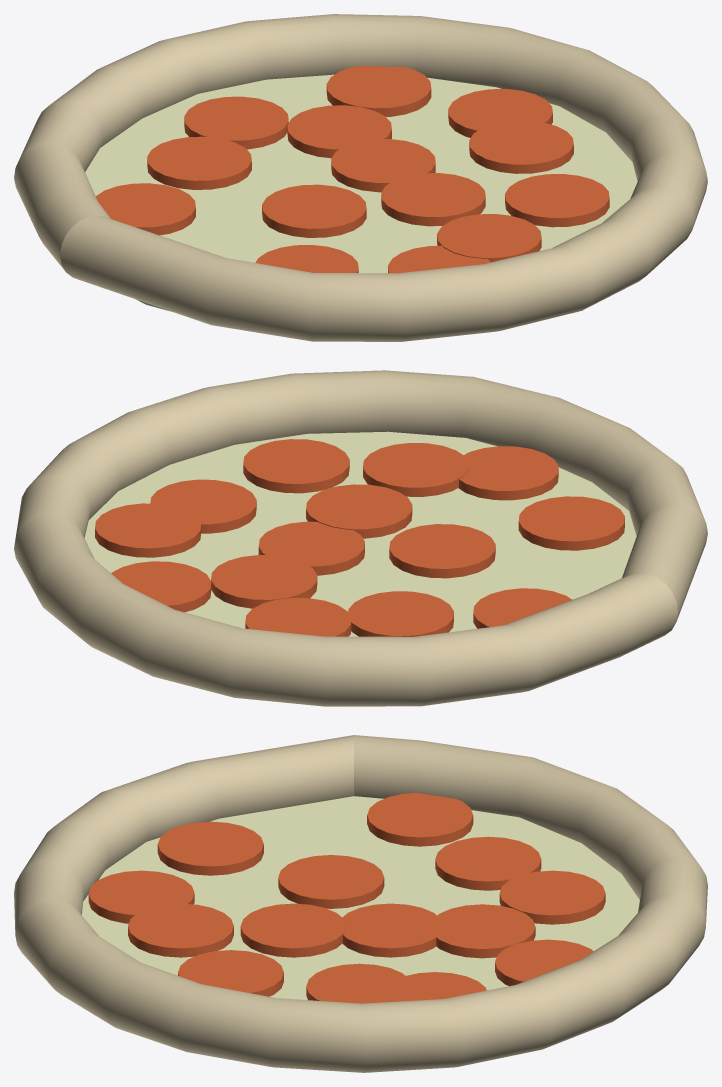
Rendered from pizza.fbx.
The picture shows the model from 3 angles, top to bottom: view 1: azimuth 30°, elevation 25°; view 2: azimuth 150°, elevation 25°; view 3: azimuth 270°, elevation 25°; orthographic projection.
Visible parts, largest first — view 1: polySurface1; view 2: polySurface1; view 3: polySurface1.
Boxes of the visible parts, x1,y1,x2,y2 form: polySurface1: (14,14,707,341); polySurface1: (14,370,707,706); polySurface1: (14,735,707,1072).
Bounding box in the file's own units: 27.32 × 2.74 × 26.92.
